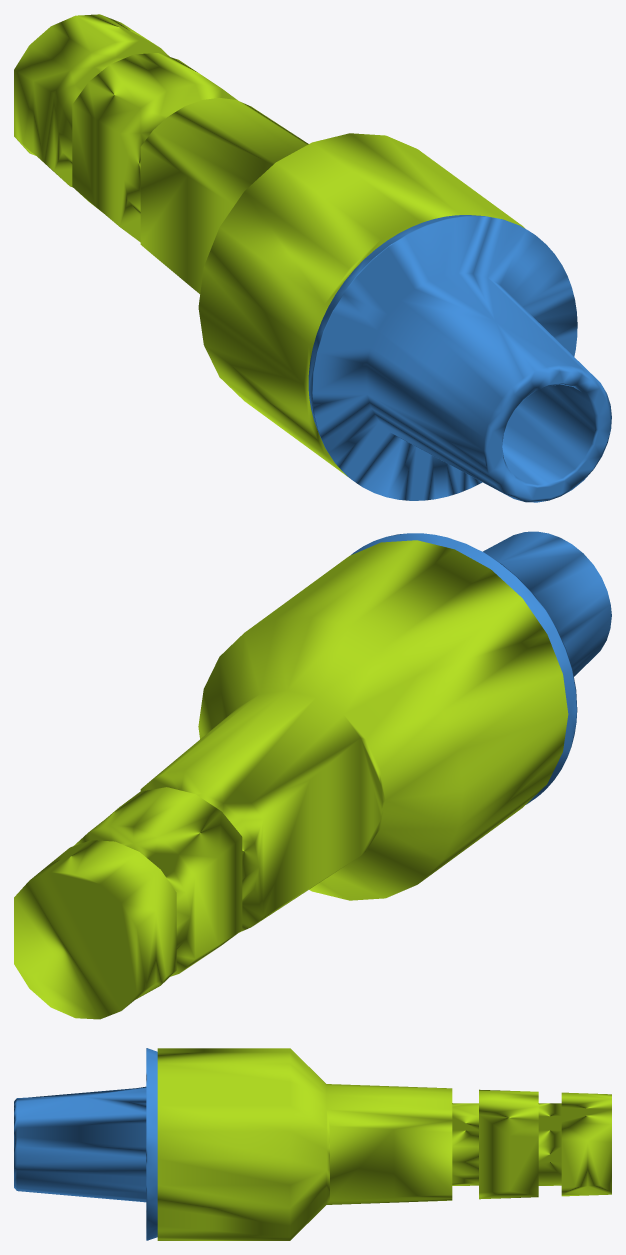
The model's file is 5.7_impl_conical.obj.
3 renders of one model, top to bottom at view 1: azimuth 30°, elevation 25°; view 2: azimuth 150°, elevation 25°; view 3: azimuth 270°, elevation 25°, orthographic. The views are drawn at different scales.
Size of the model in its own units: 5.82 by 5.82 by 18.06.
